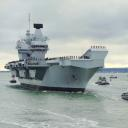Portanaves: (5, 11, 109, 95)
